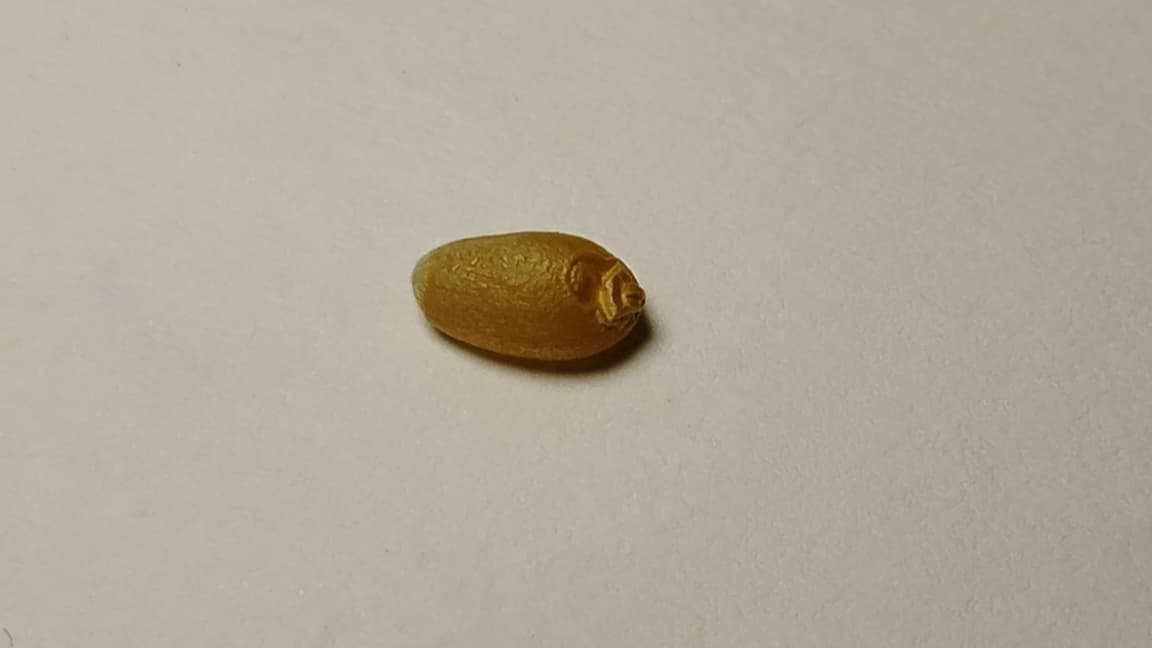healthy: (413, 231, 645, 359)
